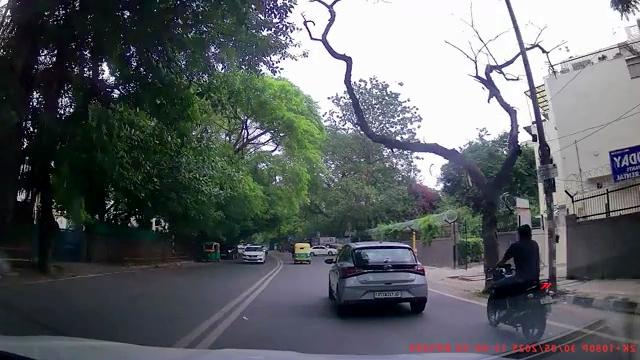motorcycle_without_helmet: (484, 223, 550, 343)
